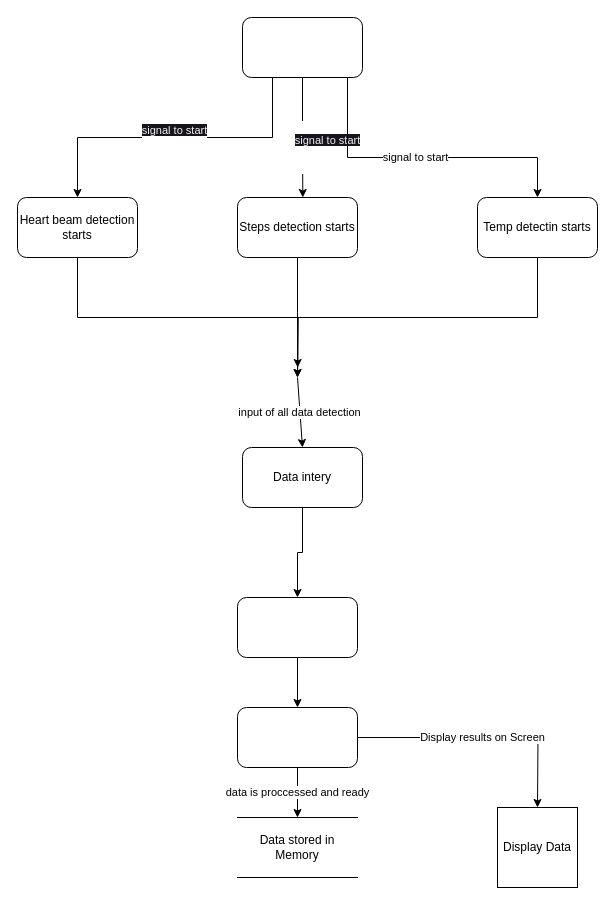
Image size: 615x905. Some labels were removed from this diagram. Here are the shapes that lost their labels. From the top down, the centre of each, then its label:
At (x=302, y=47): "Sensor Detects Motion".
At (x=297, y=627): "Microproceesor".
At (x=297, y=737): "culculations made on data".
